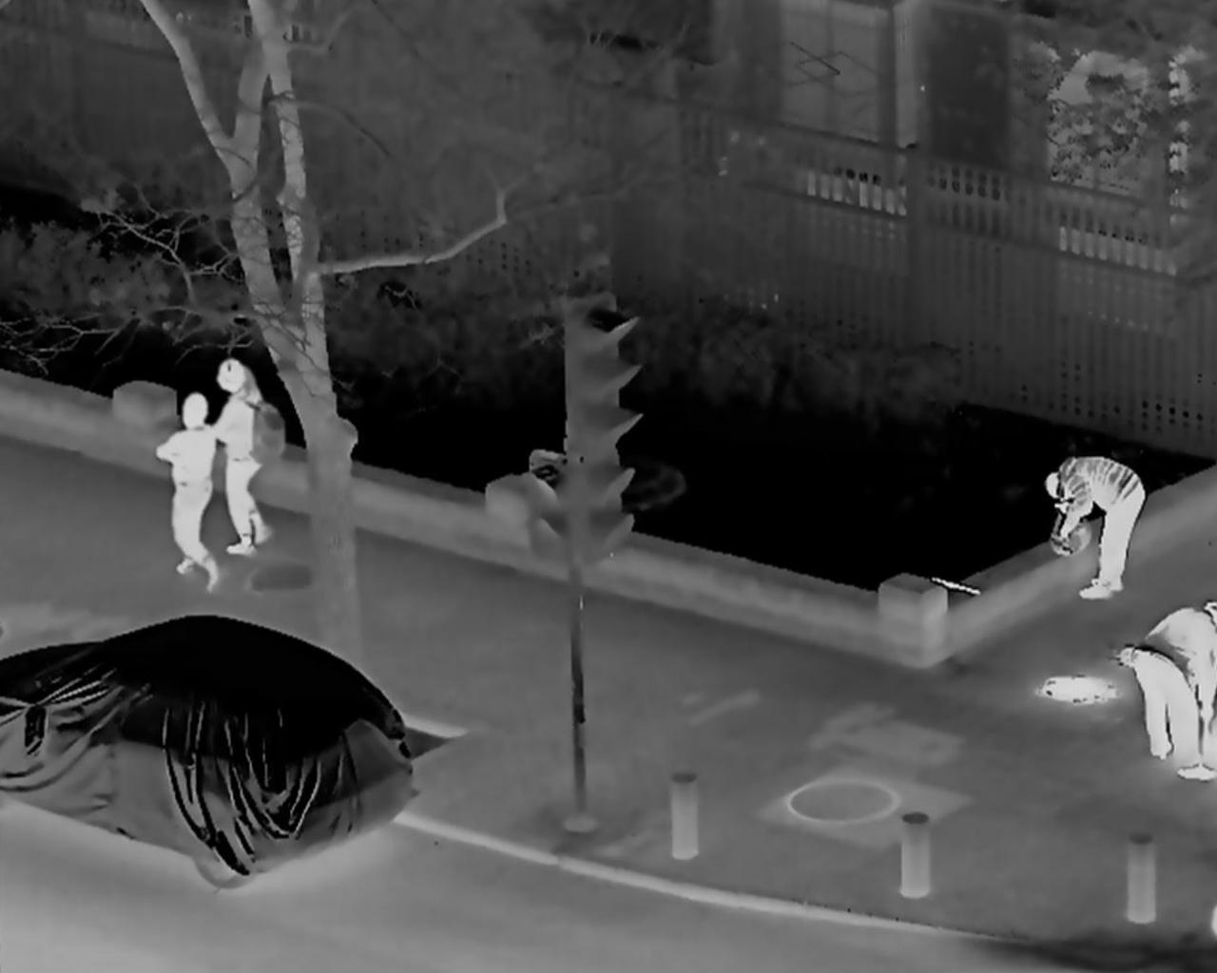person: (1130, 593, 1217, 782), (1040, 460, 1145, 602), (203, 361, 275, 557), (153, 396, 222, 594)
